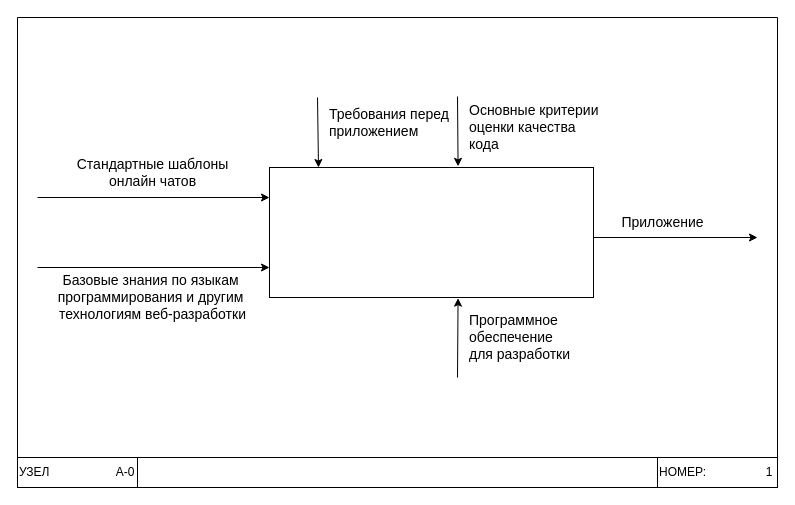
This 795x505 diagram has some shape labels left out. Here are the shapes that lost their labels. From the top down, the centre of each, then its label:
At (431,232): "Разработка веб-приложения онлайн-чата".
At (397,472): "ЗАГОЛОВОК: Веб-приложение чата".
